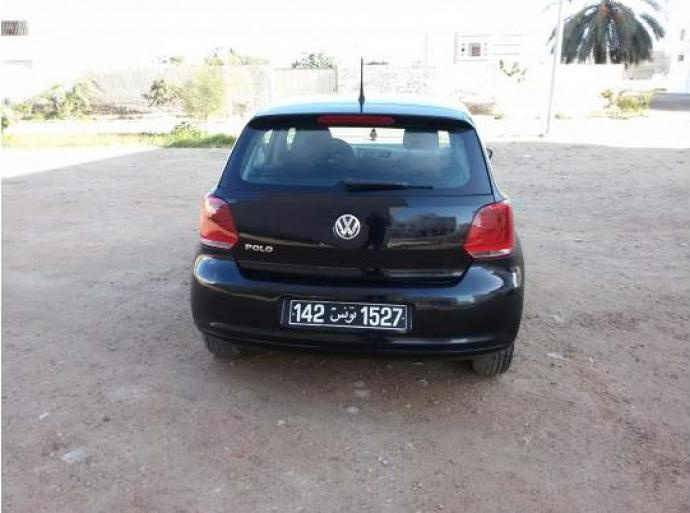LP: (287, 298, 412, 332)
